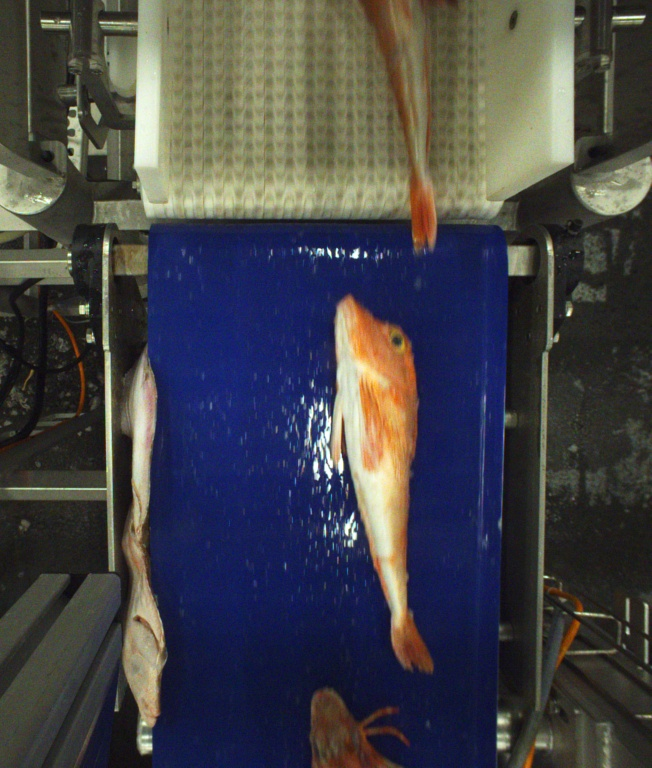GUU: (358, 0, 438, 251)
